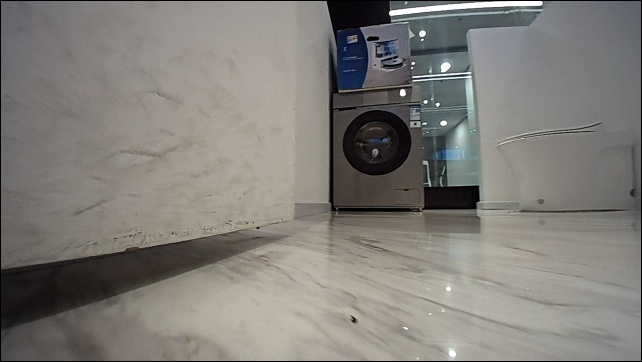toilet: (495, 121, 636, 212)
washing_machine: (330, 86, 427, 212)
